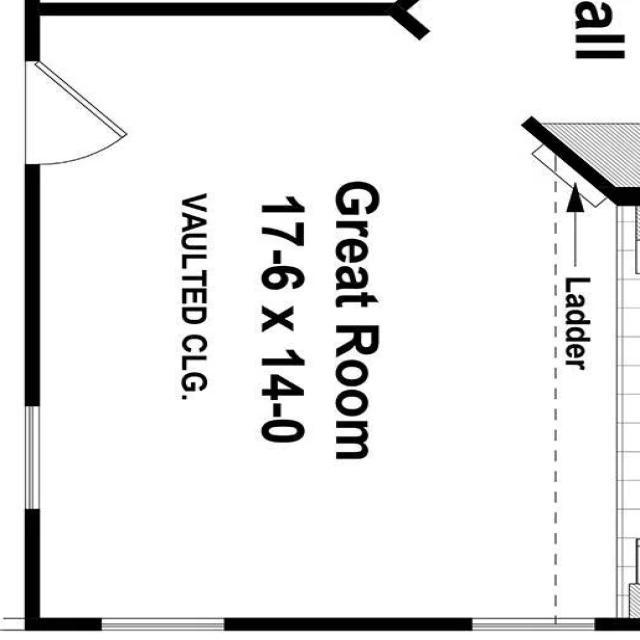Doors: (17, 58, 132, 169)
